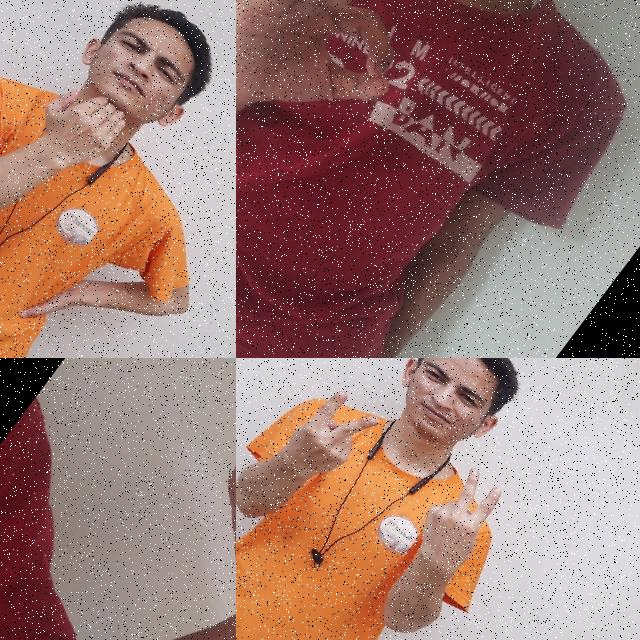Chin Flick: (5, 0, 236, 219)
Okay: (236, 0, 475, 198), (151, 358, 236, 640)
Reversed Victory: (392, 448, 524, 588), (262, 372, 393, 512)
